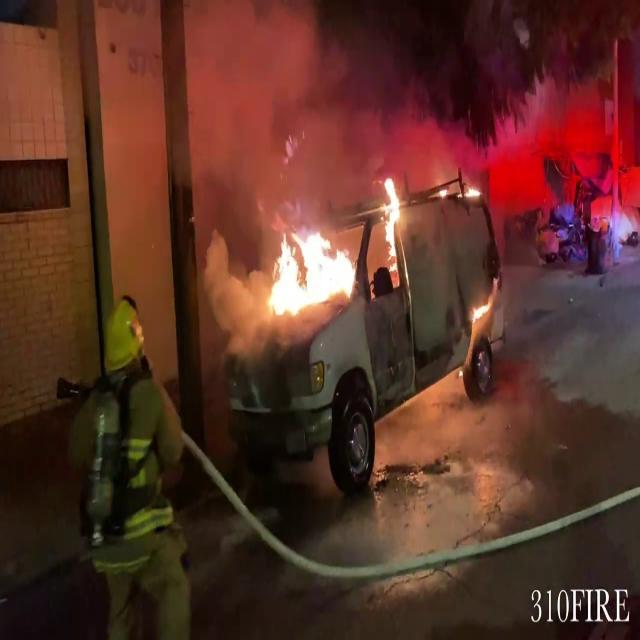Fire: (258, 216, 356, 322), (378, 171, 412, 284)
Smoke: (186, 0, 390, 254)
